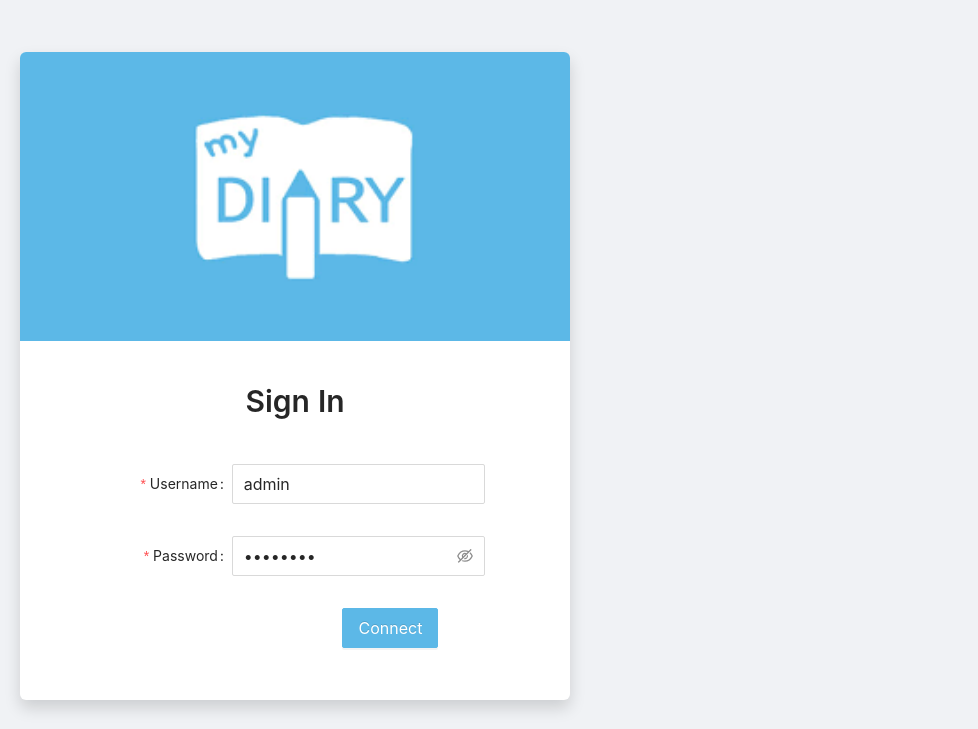
Test: authentication › should show an error if the credentials are incorrect
The image size is (978, 729).
Replace the text in the field labelled "Username" with "invalid". click: coordinates (359, 484)
box: 232,464 -> 485,504
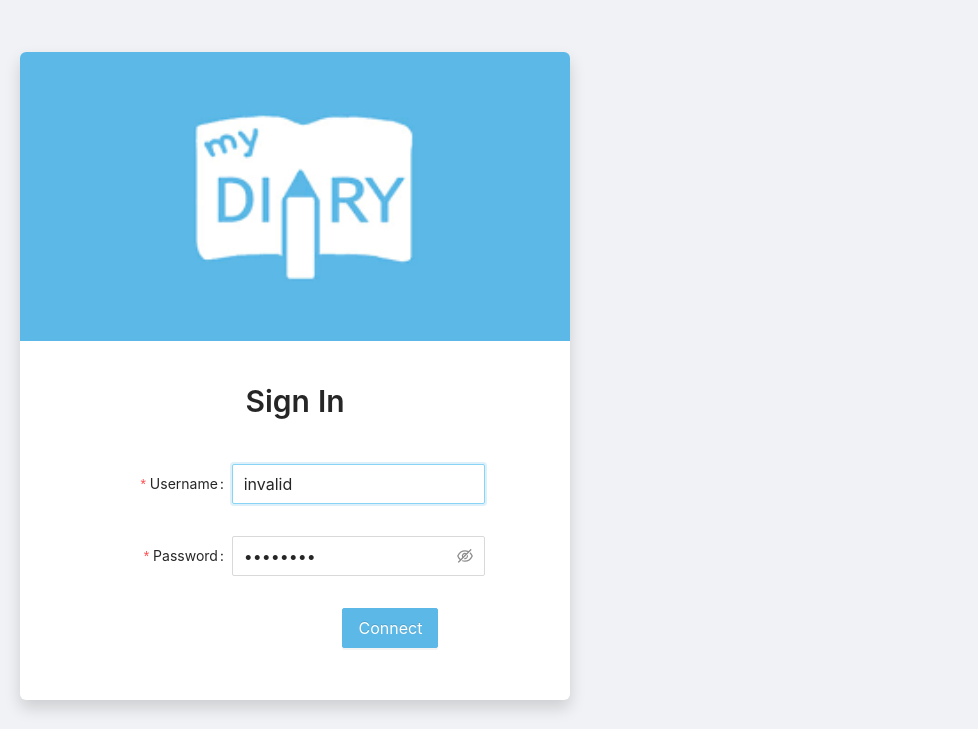
Type "invalid" into the password field labelled "Password". click: coordinates (349, 557)
box: 244,544 -> 453,569
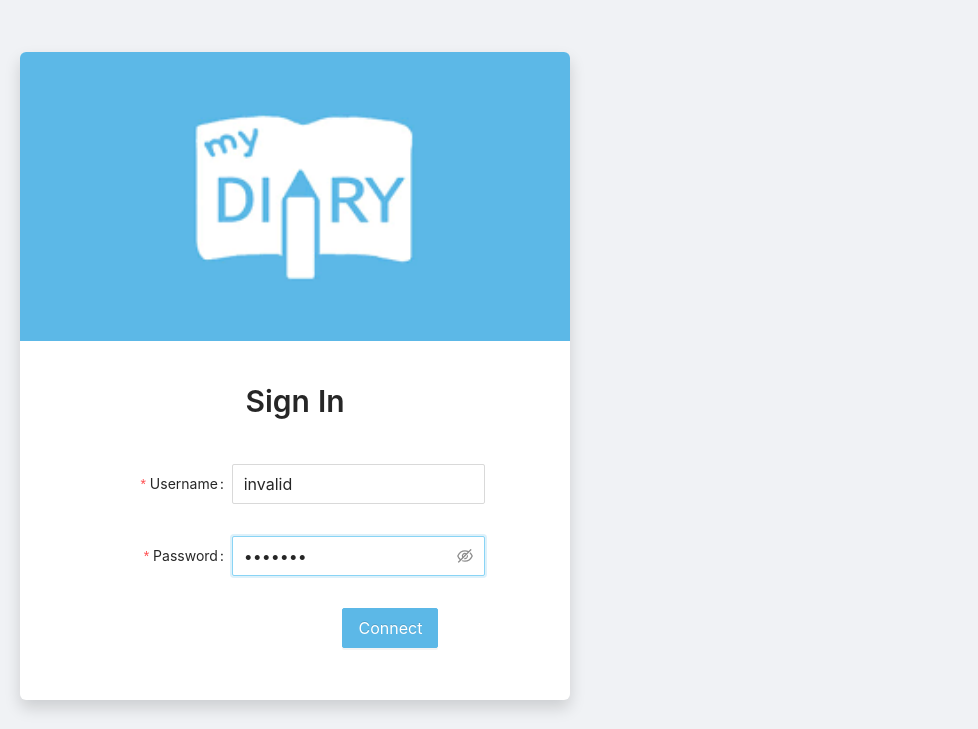
Click the button "Connect". click: coordinates (391, 629)
box: 343,609 -> 439,649
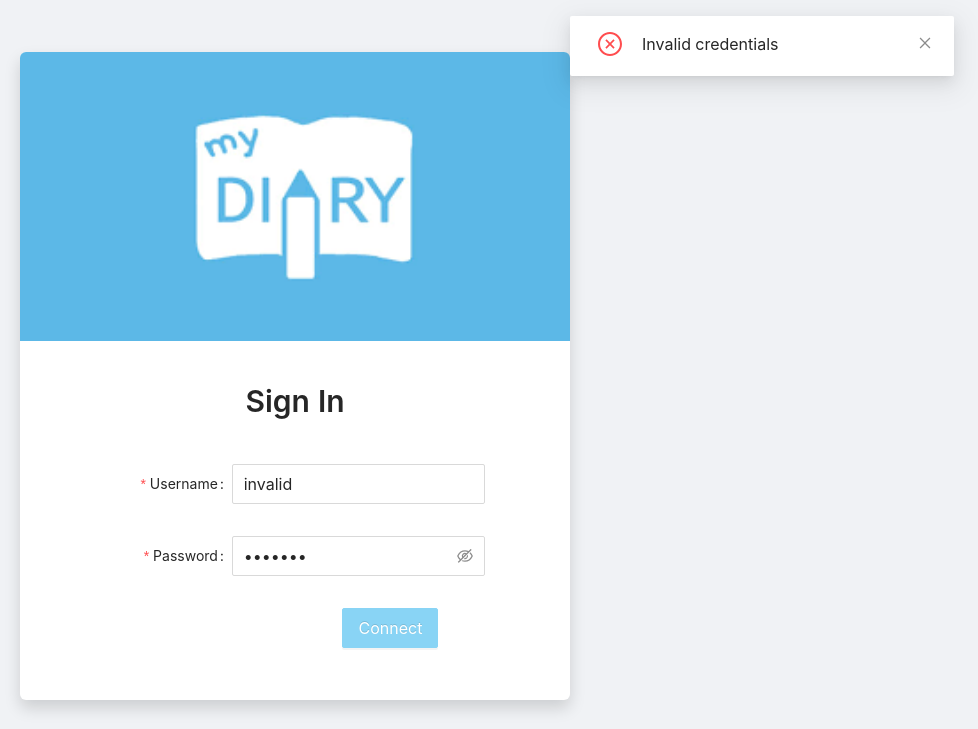
expect the text "Invalid credentials" is shown: met, box 642,34 -> 778,54
